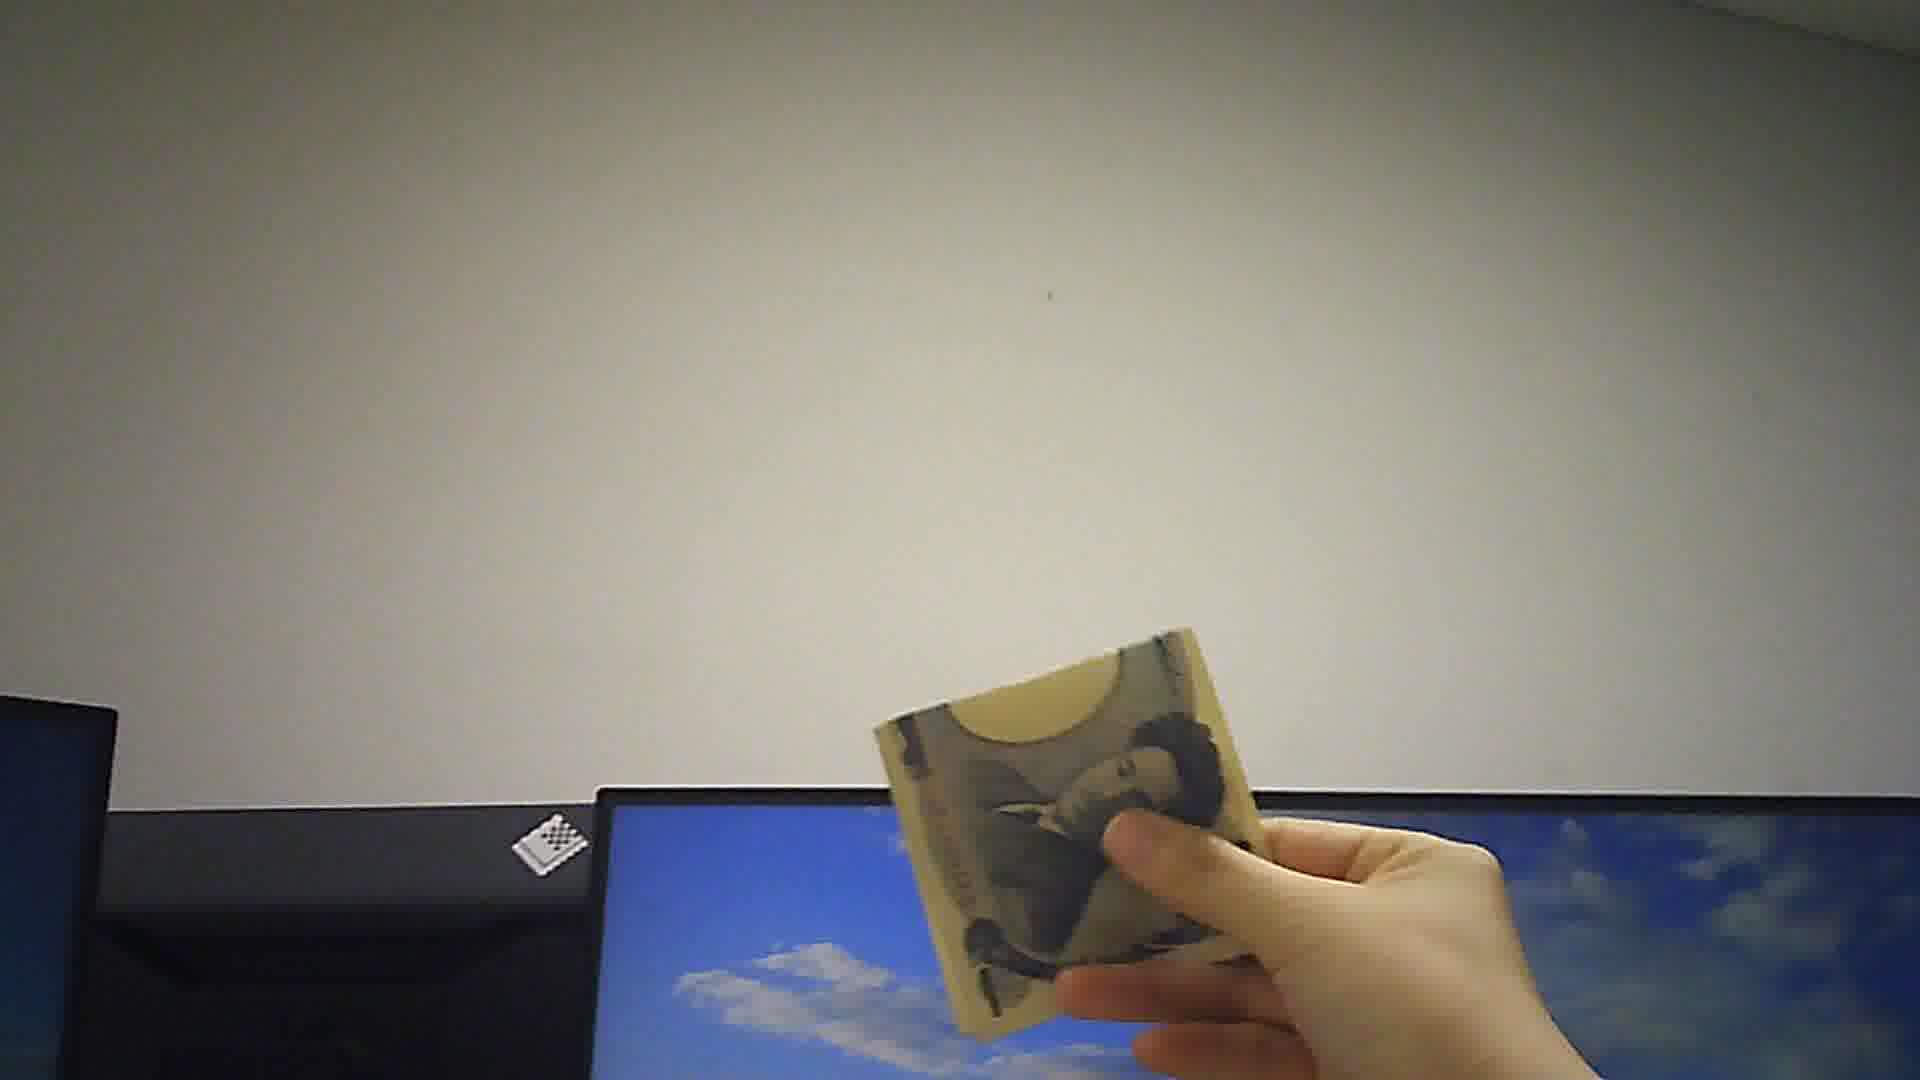1,000 Yen: (851, 625, 1298, 1059)
